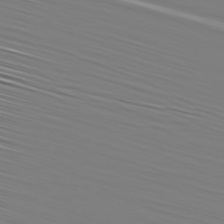cavities: (68, 84, 131, 136)
